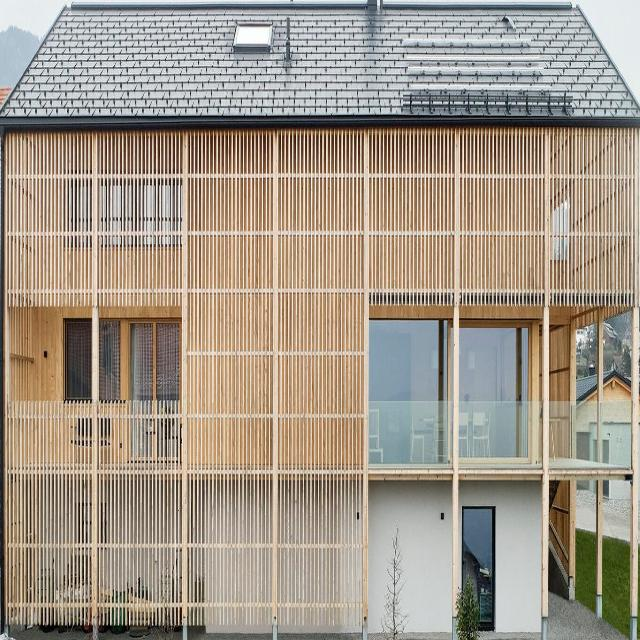railing: (369, 401, 634, 467)
window: (368, 315, 532, 401), (461, 505, 493, 635), (128, 320, 179, 400), (66, 320, 93, 402), (100, 319, 120, 405), (236, 22, 271, 44)
